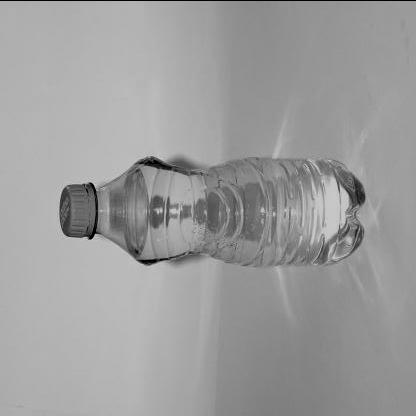bottle: (51, 151, 372, 273)
